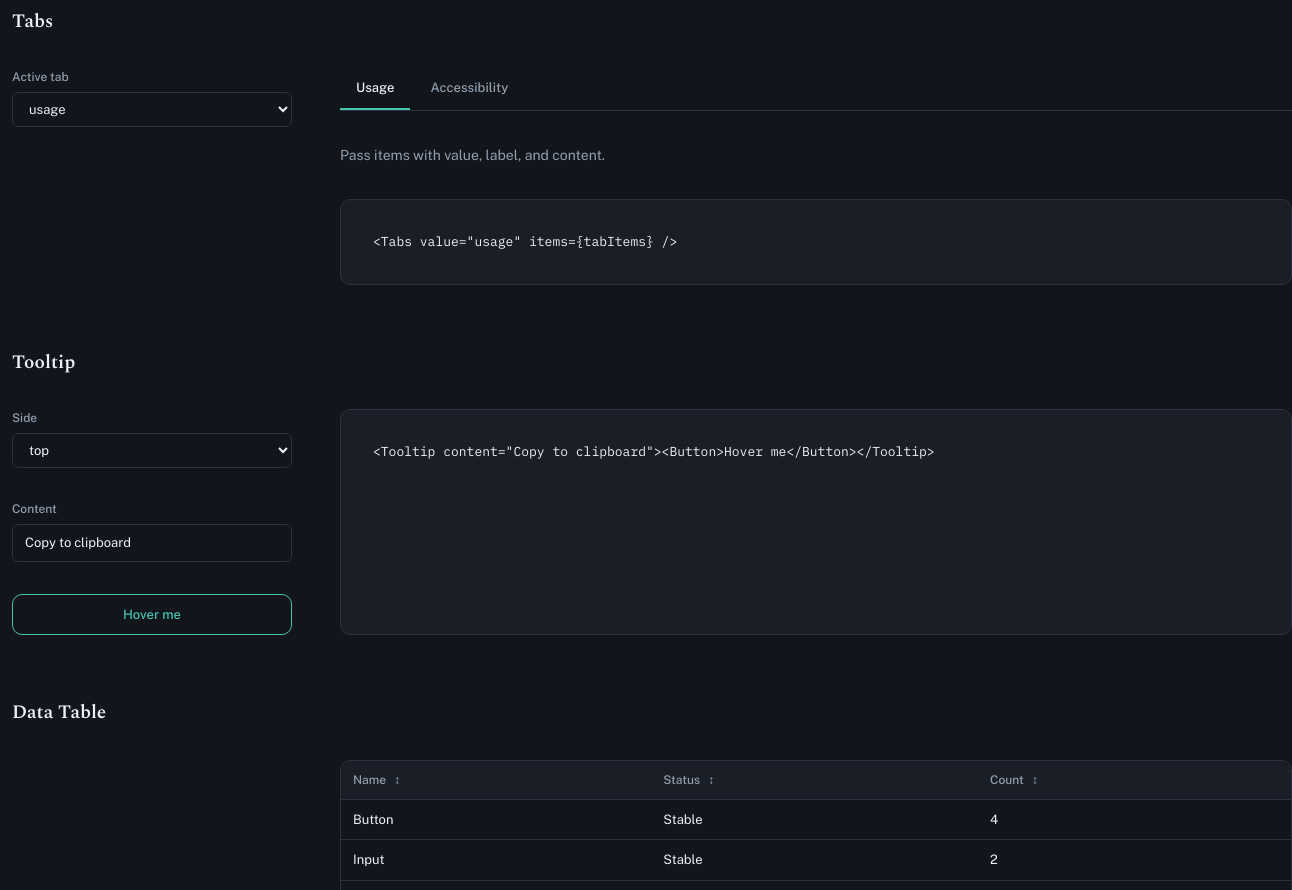
Scenario: PlaygroundControls › updates the generated Tooltip snippet when side and content change
(page scrolled)
Select "right" in the dropdown labelled "Side" at [152, 450], box [12,433,292,468]
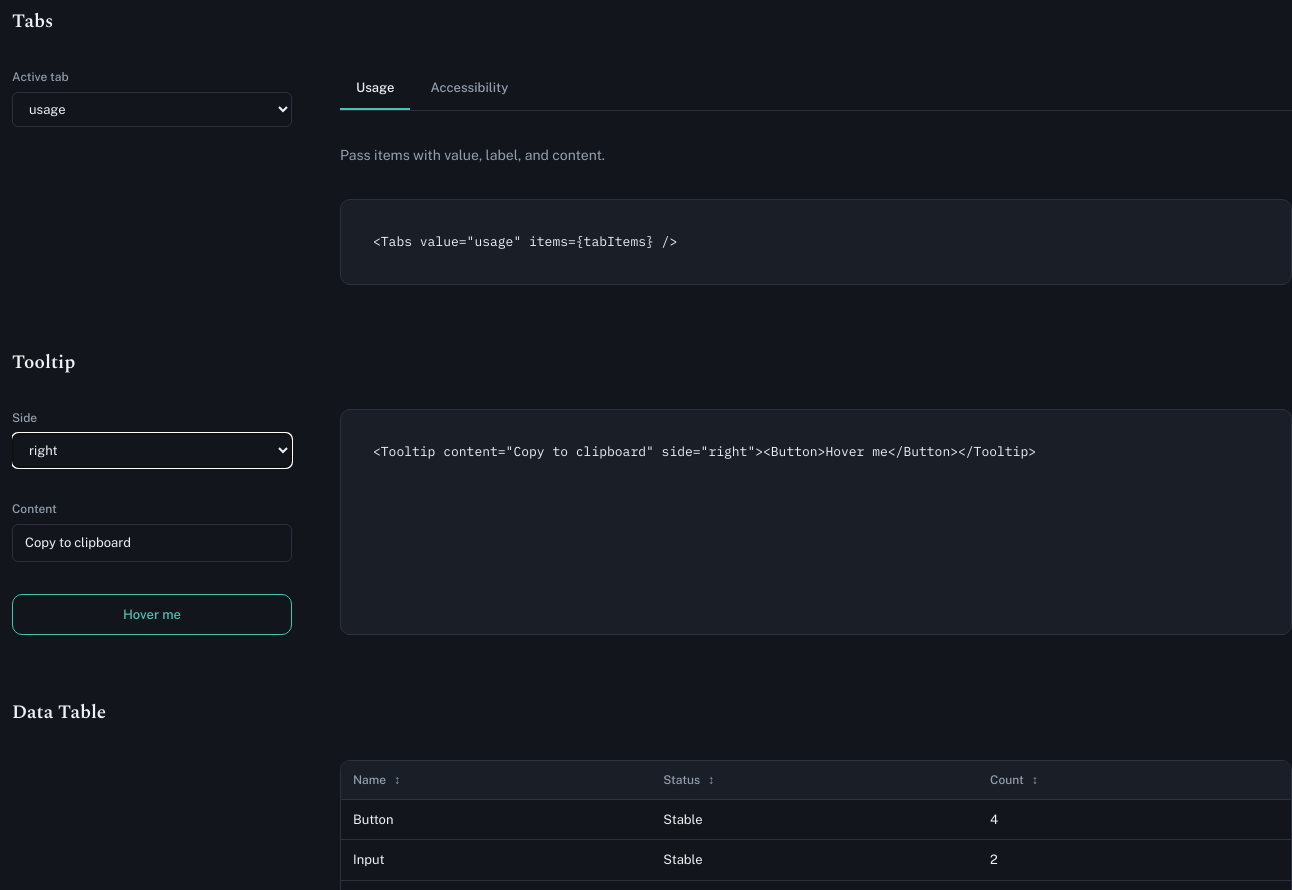
Replace the text in the field labelled "Content" with "On the right" at [152, 543], box [12,524,292,562]
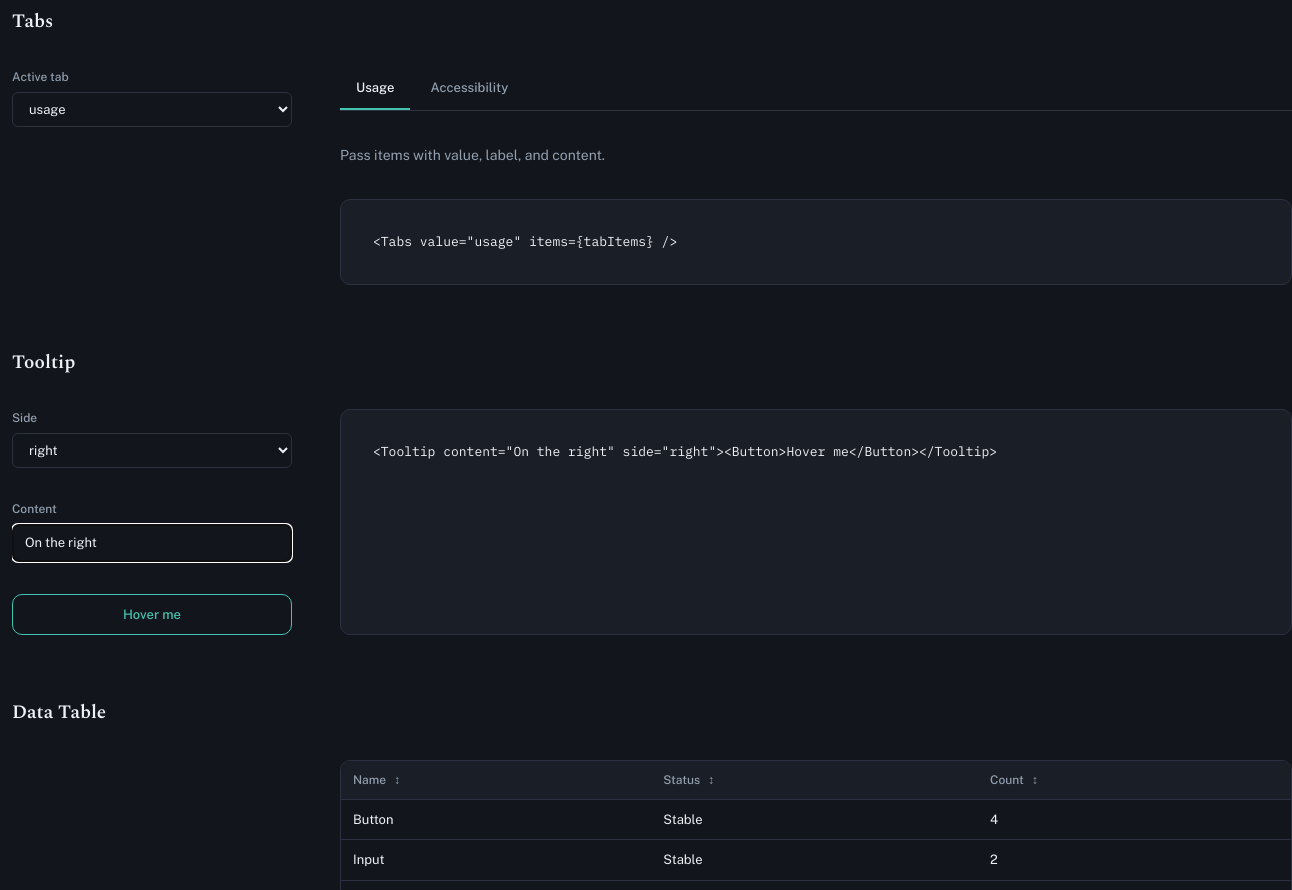
Result: the text "<Tooltip content=\"On the right\" side=\"right\"><Button>Hover me</Button></Tooltip>" is shown at [340,409,1291,635]
